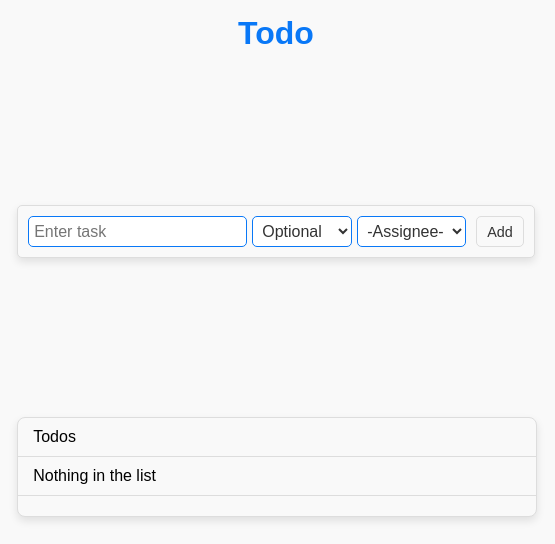
it: Todo Form adds › should allow adding a new todo
The image size is (555, 544).
Step 1. Type "Hello world" into the field with placeholder "Enter task" → (138, 233), box [28, 217, 247, 248]
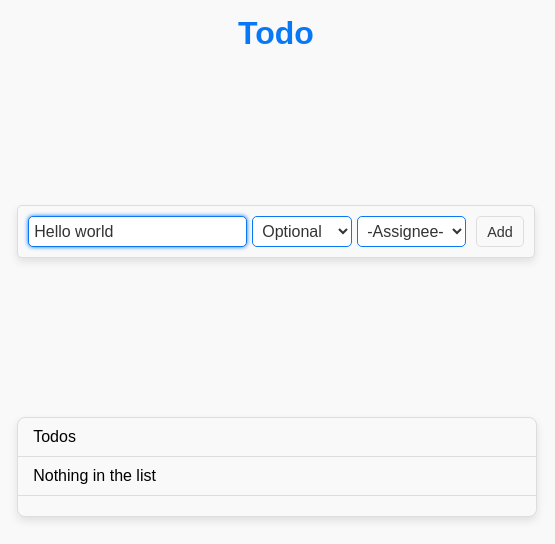
Step 2. Select "Critical" in the 1st dropdown → (302, 233), box [252, 217, 352, 248]
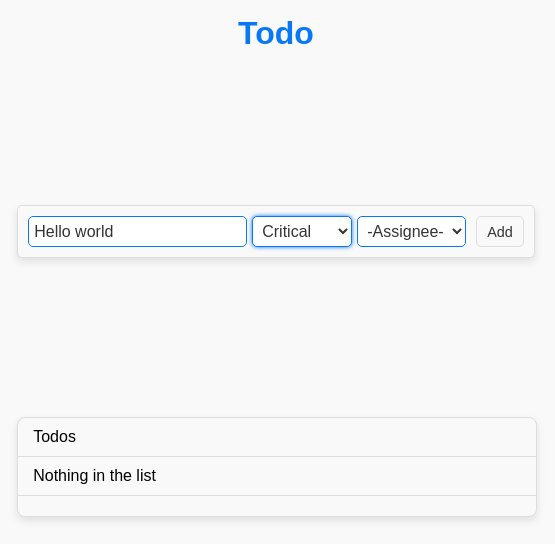
Step 3. Select "John" in the 2nd dropdown → (412, 233), box [357, 217, 466, 248]
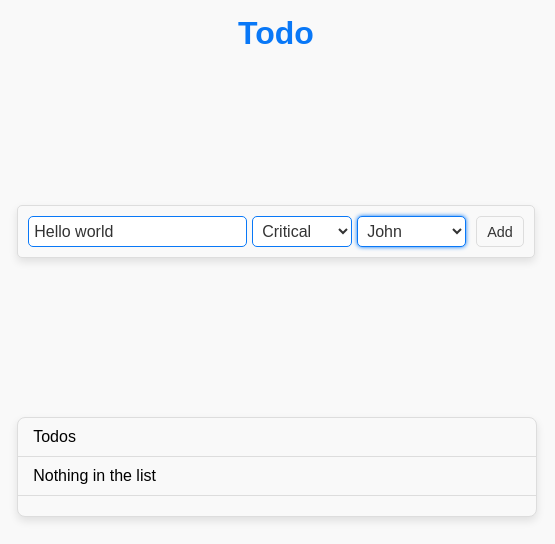
Step 4. Click the submit button → (500, 233), box [476, 217, 524, 248]
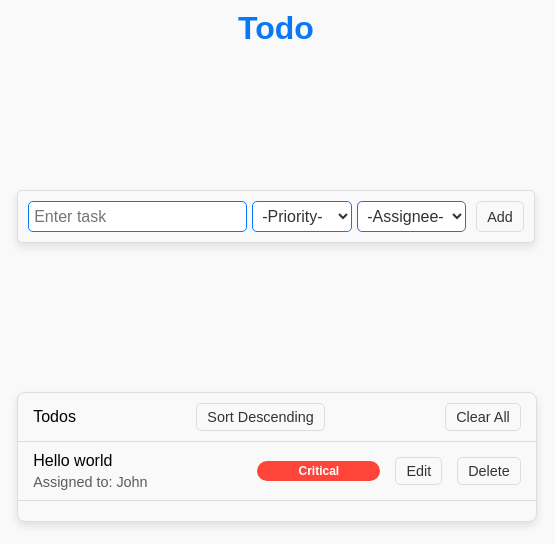
expect the text "Hello world" is shown: met, box [33, 452, 112, 469]
expect the text "Assigned to: John" is shown: met, box [33, 474, 148, 490]
expect the text "critical" is shown: met, box [257, 461, 380, 481]
